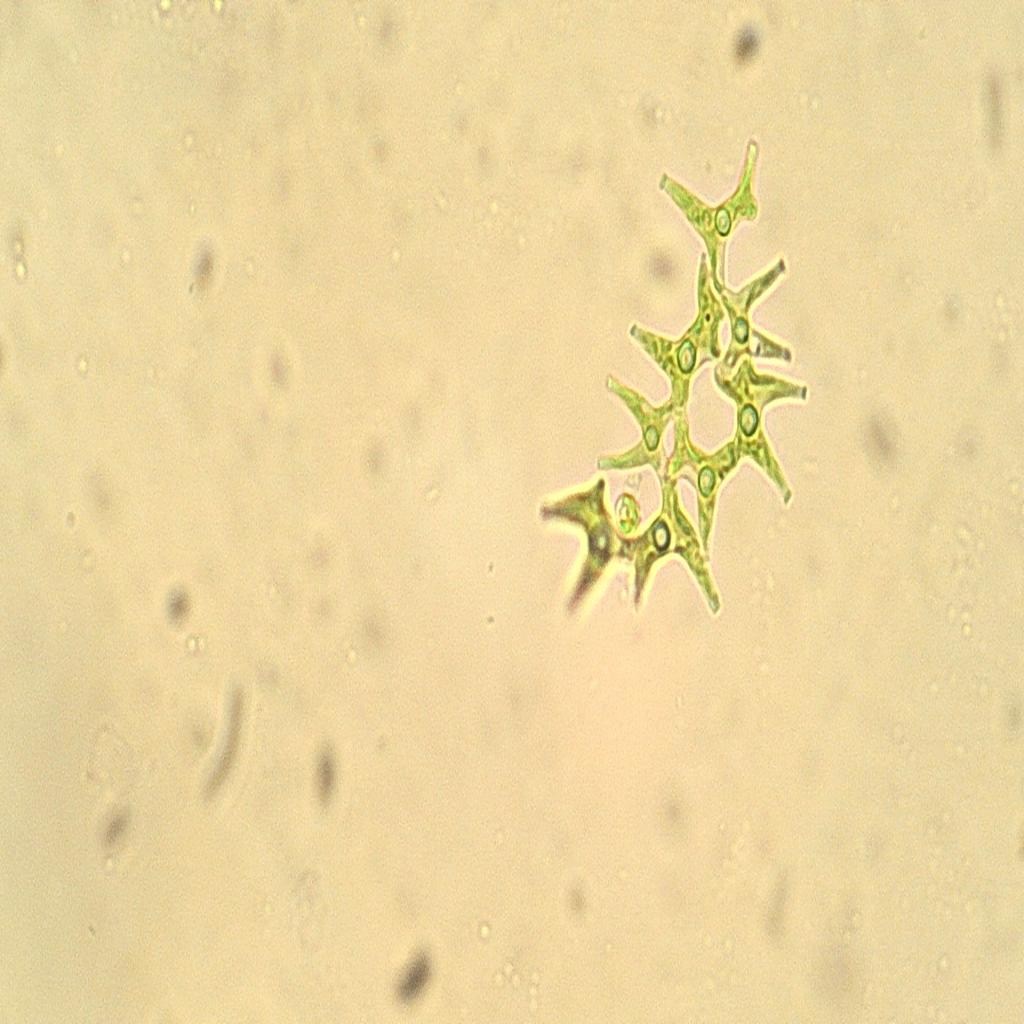Pediastrum_CFI: (535, 118, 816, 653)
